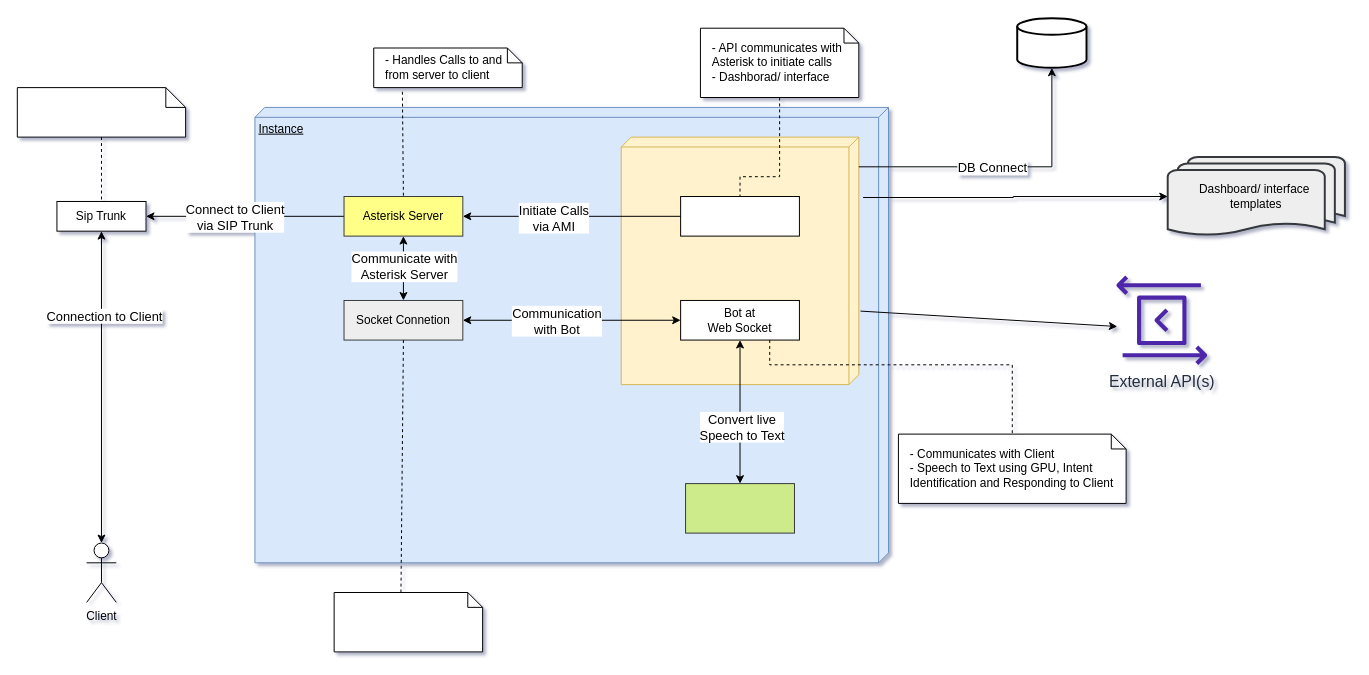
Some shapes in this 1369 by 675 pixel diagram are drawn without their labels. The box of each missing label's shape, as (x1, y1, x2, y2) in pixels:
- Communication between Asterisk Server and Django Server: (333, 592, 483, 652)
- Enable Connection to External Numbers For asterisk: (16, 87, 186, 137)
Django Server: (620, 136, 859, 385)
GPU (Nvidia Series): (685, 483, 794, 533)
HTTP(s): (680, 196, 799, 236)
Postgresql DB: (1016, 17, 1087, 68)
